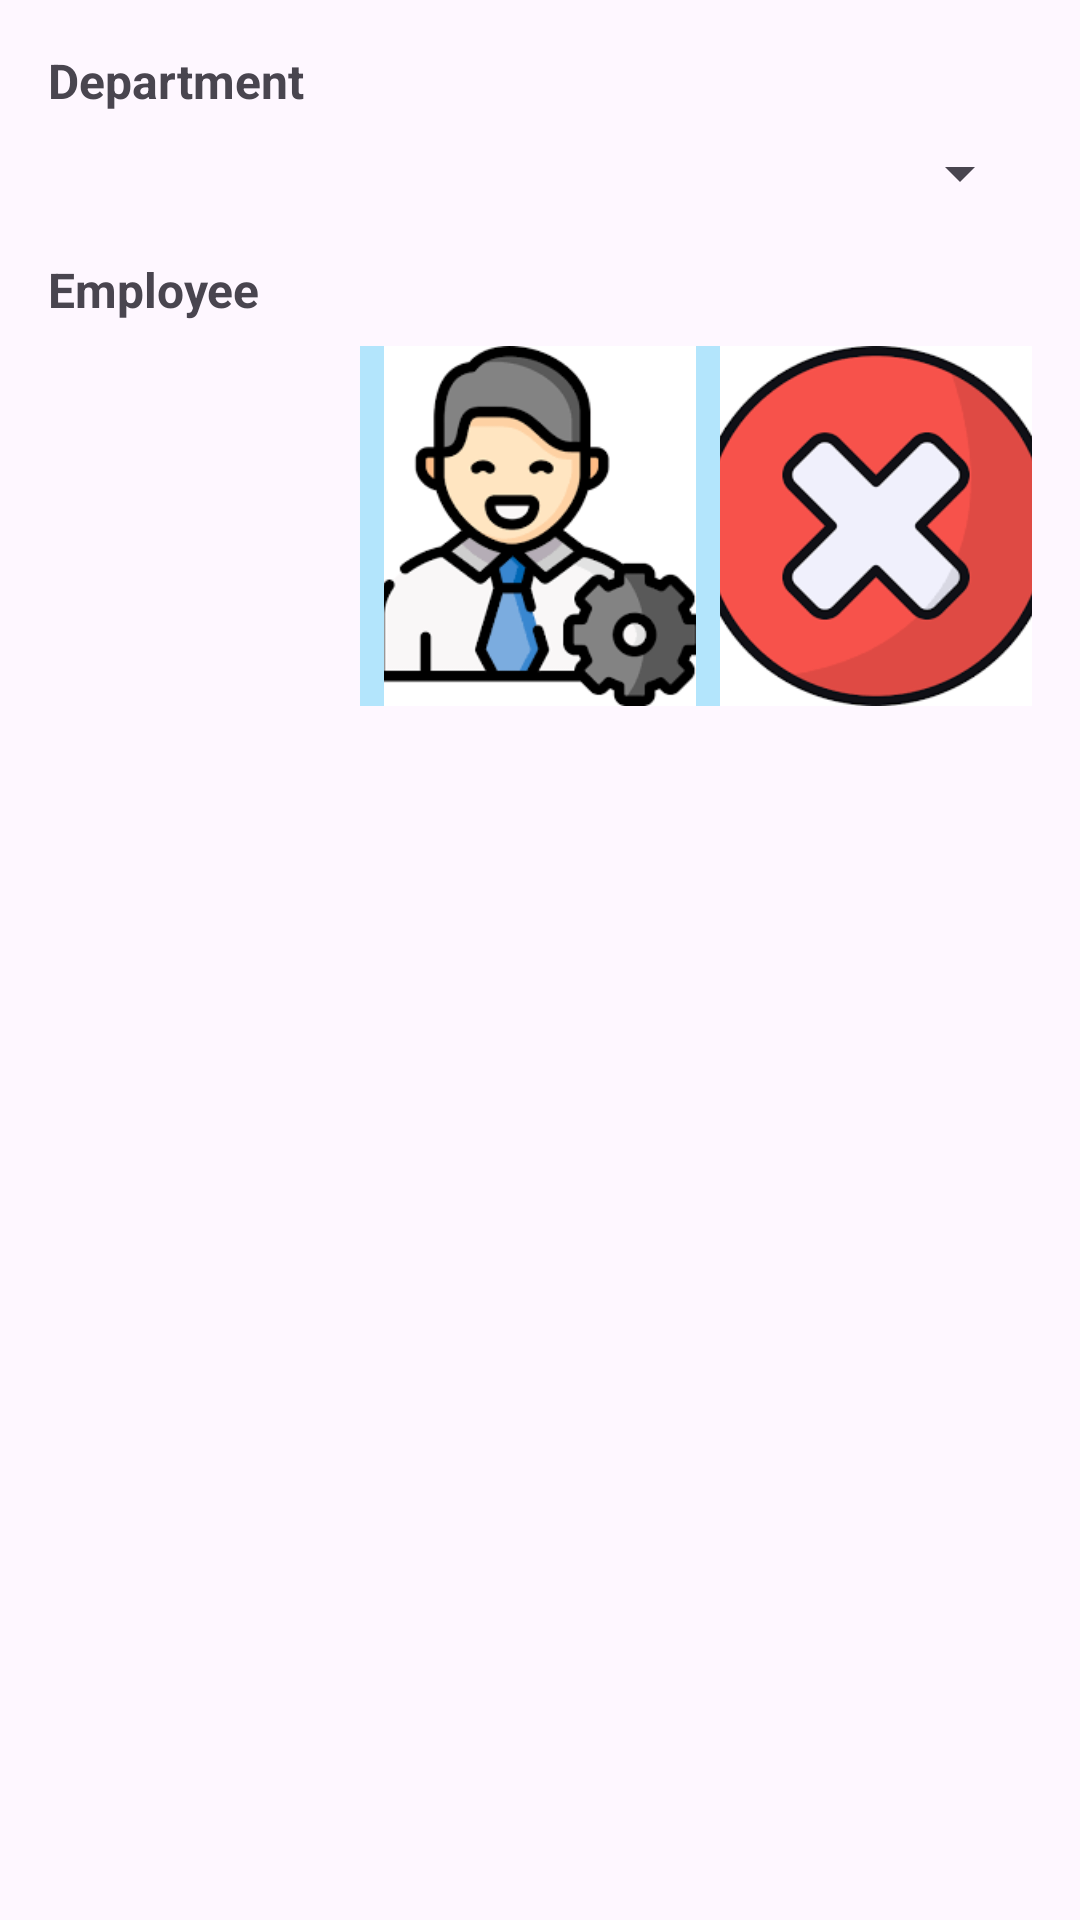

Screen size 1080 × 1920. Icon name, then its center in pixels as (x,y):
update emp: (540,526)
